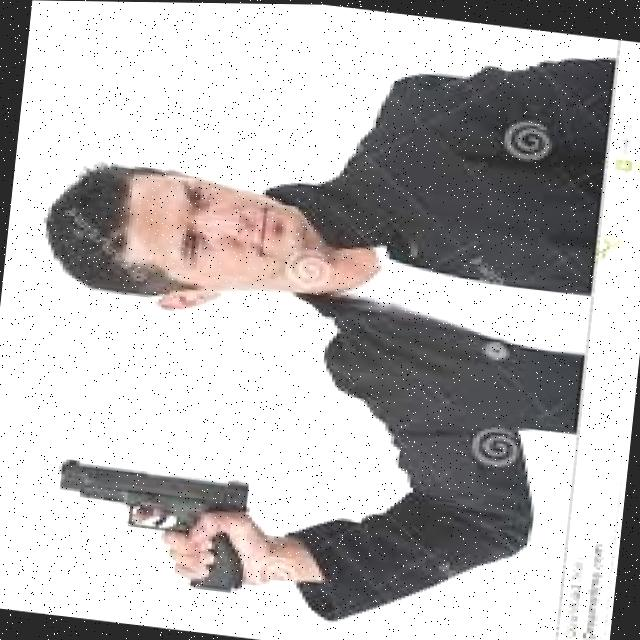pistol: (45, 454, 252, 592)
